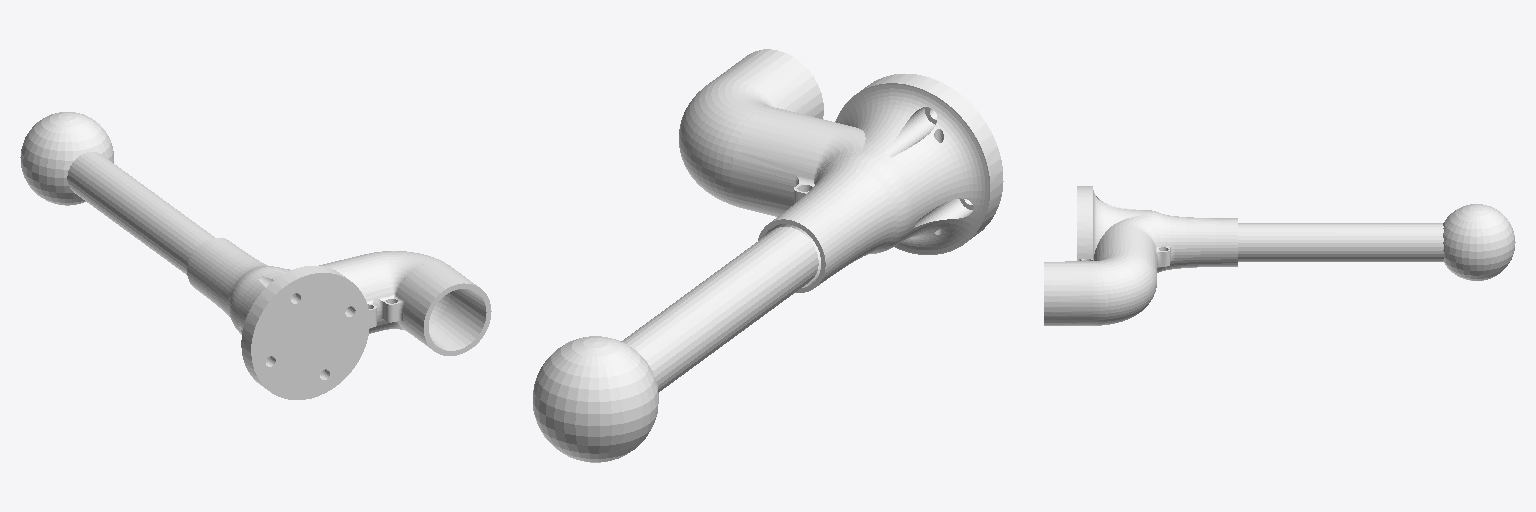
URDF robot description (vacuum):
<?xml version="1.0" encoding="utf-8"?>
<!-- This URDF was automatically created by SolidWorks to URDF Exporter! Originally created by [author] ([email redacted]) 
     Commit Version: 1.6.0-1-g15f4949  Build Version: 1.6.7594.29634
     For more information, please see http://wiki.ros.org/sw_urdf_exporter -->
<robot
  name="vacuum">
  <link
    name="vacuum_base_link">
    <inertial>
      <origin
        xyz="6.517E-09 -0.014367 0.027764"
        rpy="0 0 0" />
      <mass
        value="0.097429" />
      <inertia
        ixx="0.00011904"
        ixy="-3.2786E-12"
        ixz="-1.6419E-11"
        iyy="0.000148"
        iyz="1.9632E-05"
        izz="0.00010905" />
    </inertial>
    <visual>
      <origin
        xyz="-0.035 -0.02 -0.035"
        rpy="0 0 0" />
      <geometry>
        <mesh
          filename="package://vacuum/meshes/tool.STL" scale="0.001 0.001 0.001"/>
      </geometry>
      <material
        name="">
        <color
          rgba="0.96078 0.96078 0.96471 1" />
      </material>
    </visual>
    <collision>
      <origin
        xyz="-0.035 -0.02 -0.035"
        rpy="0 0 0" />
      <geometry>
        <mesh
          filename="package://vacuum/meshes/tool.STL" scale="0.0010 0.0010 0.0010"/>
      </geometry>
    </collision>
  </link>



  <link
    name="vacuum_tube">
    <visual>
      <origin
        xyz=" 0 0.064 0"
        rpy="1.57 0 0" />
      <geometry>
        <cylinder length="0.128" radius="0.012"/>
      </geometry>
      <material
        name="">
        <color
          rgba="0.96078 0.96078 0.96471 1" />
      </material>
    </visual>
      <collision>
      <origin
        xyz="0 0.064 0"
        rpy="1.57 0 0" />
      <geometry>
         <cylinder length="0.128" radius="0.012"/>
      </geometry>
    </collision>
  </link>
  <link
          name="vacuum_sphere">
    <visual>
      <origin
              xyz=" 0 0.02 0"
              rpy="0 0 0" />
      <geometry>
        <sphere radius="0.024"/>
      </geometry>
      <material
              name="">
        <color
                rgba="0.96078 0.96078 0.96471 1" />
      </material>
    </visual>
    <collision>
      <origin
              xyz="0 0.02 0"
              rpy="0 0 0" />
      <geometry>
        <sphere radius="0.024"/>
      </geometry>
    </collision>
  </link>

   <link
    name="vacuum_tcp">
  </link>

   <link
    name="vacuum_safe_tcp">
  </link>

  <joint
    name="tube_joint"
    type="fixed">
    <origin
      xyz="0 0.1 0"
      rpy="0 0 0" />
    <parent
      link="vacuum_base_link" />
    <child
      link="vacuum_tube" />
  </joint>

  <joint
      name="sphere_joint"
      type="fixed">
    <origin
      xyz="0 0.128 0"
      rpy="0 0 0" />
    <parent
            link="vacuum_tube" />
    <child
            link="vacuum_sphere" />
  </joint>

  <joint
          name="tcp_joint"
          type="fixed">
    <origin
            xyz="0 0.048 0"
            rpy="0 0 0" />
    <parent
            link="vacuum_sphere" />
    <child
            link="vacuum_tcp" />
  </joint>

  <joint
          name="tcp_safe_joint"
          type="fixed">
    <origin
            xyz="0 0.05 0"
            rpy="0 0 0" />
    <parent
            link="vacuum_tcp" />
    <child
            link="vacuum_safe_tcp" />
  </joint>

</robot>

--- Render facts (derived) ---
Views: 3 orthographic renders of the robot side by side, from view 1: azimuth 30°, elevation 25°; view 2: azimuth 150°, elevation 25°; view 3: azimuth 270°, elevation 25°.
Model vacuum with 5 links and 4 joints (4 fixed), rooted at vacuum_base_link, posed all joints at 0.
Links seen in each view (by area): view 1: vacuum_base_link, vacuum_tube, vacuum_sphere; view 2: vacuum_base_link, vacuum_tube, vacuum_sphere; view 3: vacuum_base_link, vacuum_tube, vacuum_sphere.
Boxes of the visible links, box(x1,y1,x2,y2) form: vacuum_base_link: box(187, 238, 491, 399); vacuum_tube: box(67, 152, 214, 274); vacuum_sphere: box(20, 112, 113, 205); vacuum_base_link: box(679, 49, 1003, 292); vacuum_tube: box(621, 227, 818, 392); vacuum_sphere: box(533, 336, 658, 462); vacuum_base_link: box(1044, 186, 1237, 325); vacuum_tube: box(1238, 223, 1443, 261); vacuum_sphere: box(1443, 204, 1515, 280).
Bounding box of the posed robot: 0.13 × 0.292 × 0.07 m (x, y, z).
1 mesh visuals loaded from 1 distinct referenced files (1 binary STL).
